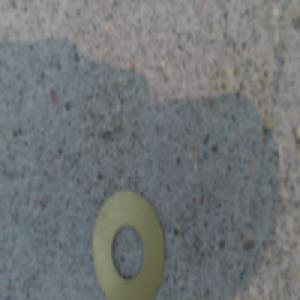Washer: (92, 181, 167, 298)
